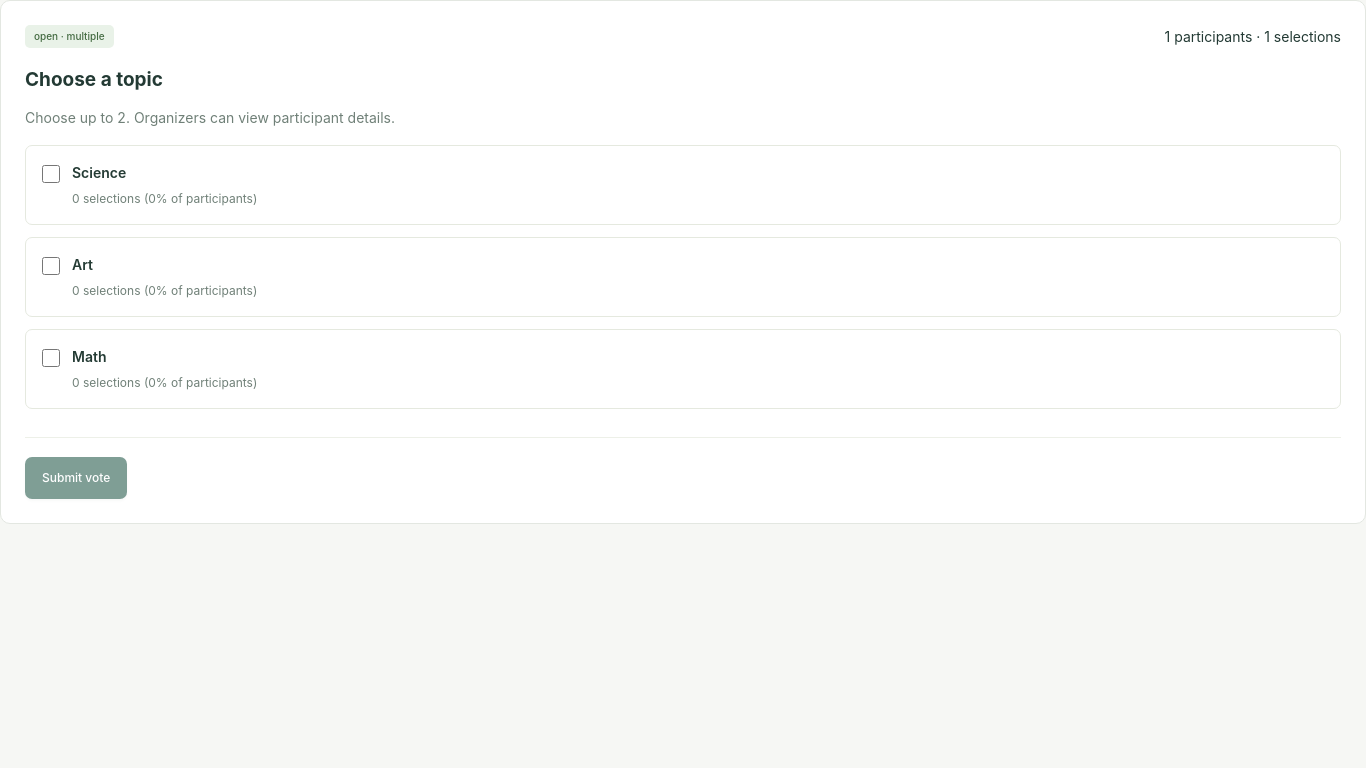
Scenario: Polling interface › enforces the multiple-choice maximum in the interface
Click the checkbox labelled "Science 0 selections (0% of participants)" at (51, 174), box [42,165,60,183]
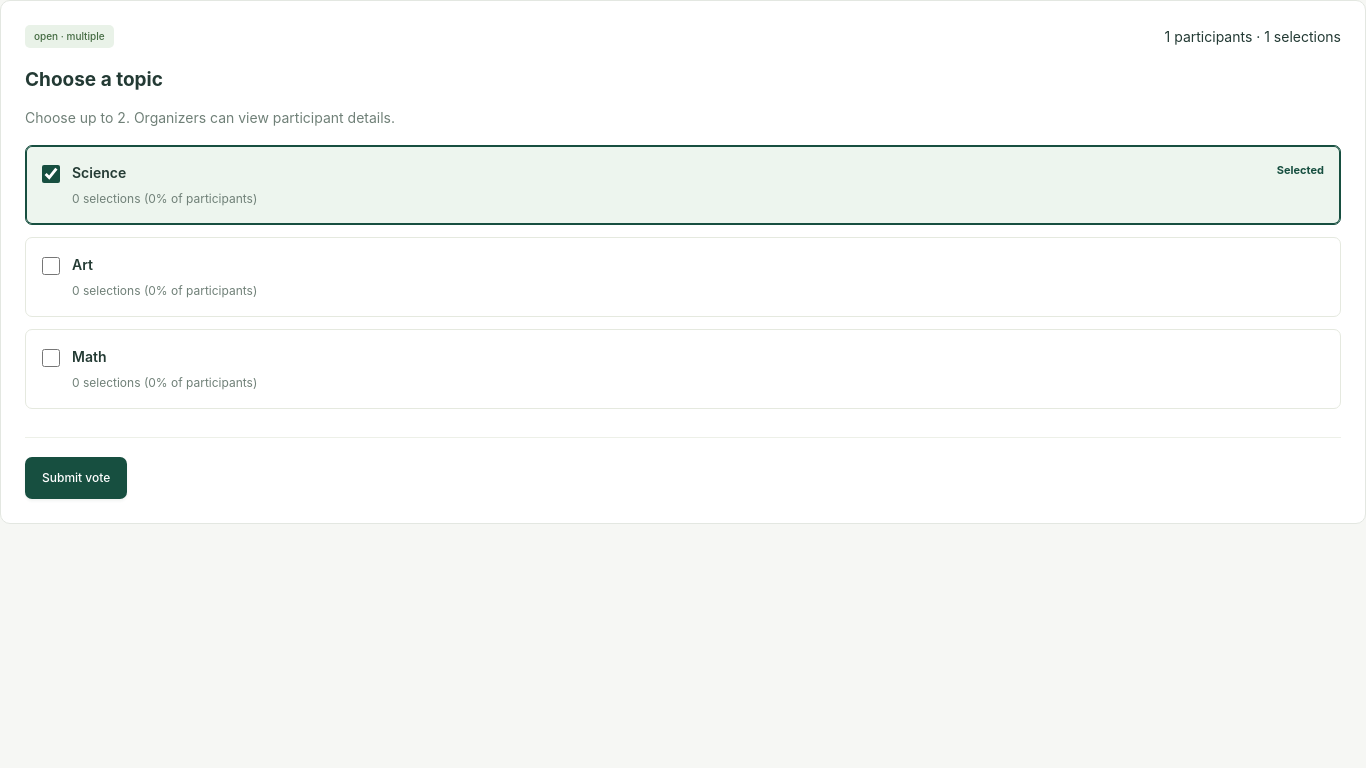
Click the checkbox labelled "Art 0 selections (0% of participants)" at (51, 266), box [42,257,60,275]
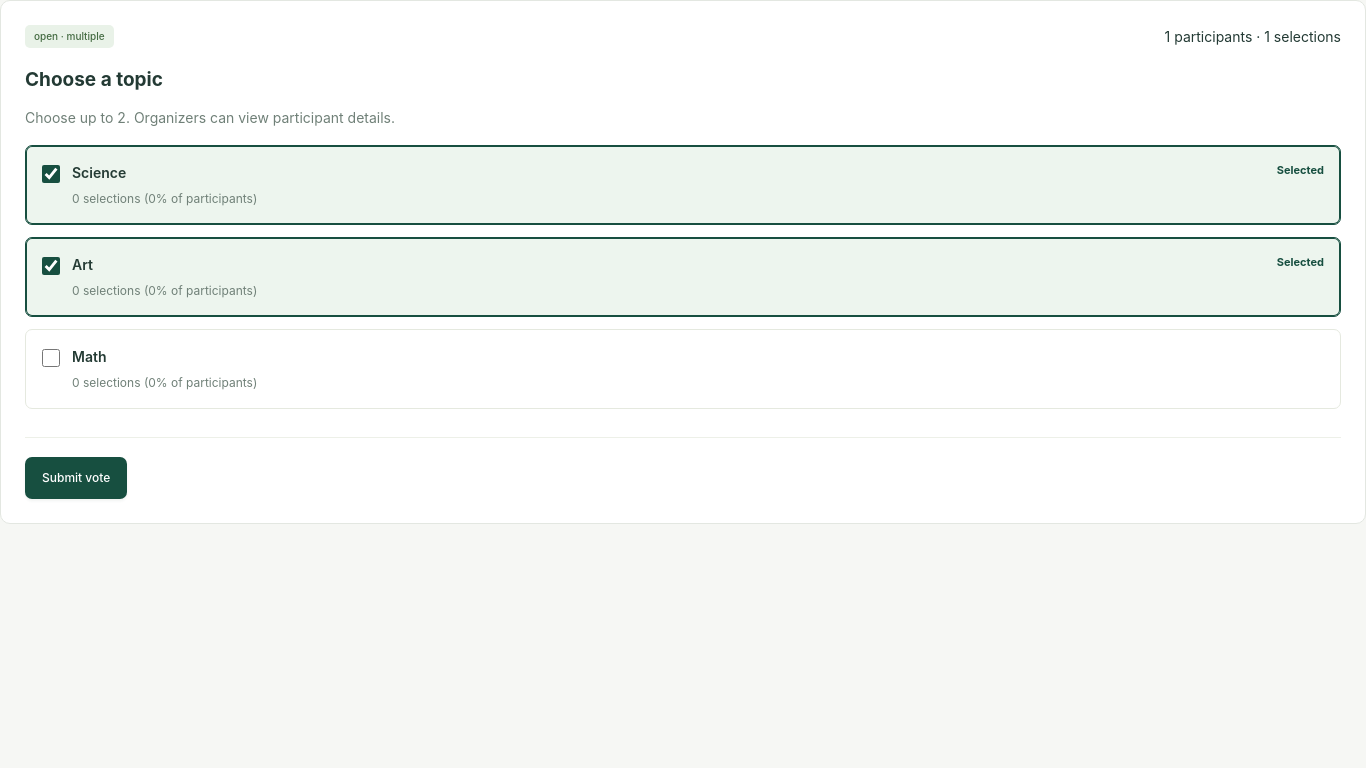
Expected: the button "Submit vote" is enabled, [25,458,127,500]
Click the checkbox labelled "Math 0 selections (0% of participants)" at (51, 358), box [42,349,60,367]
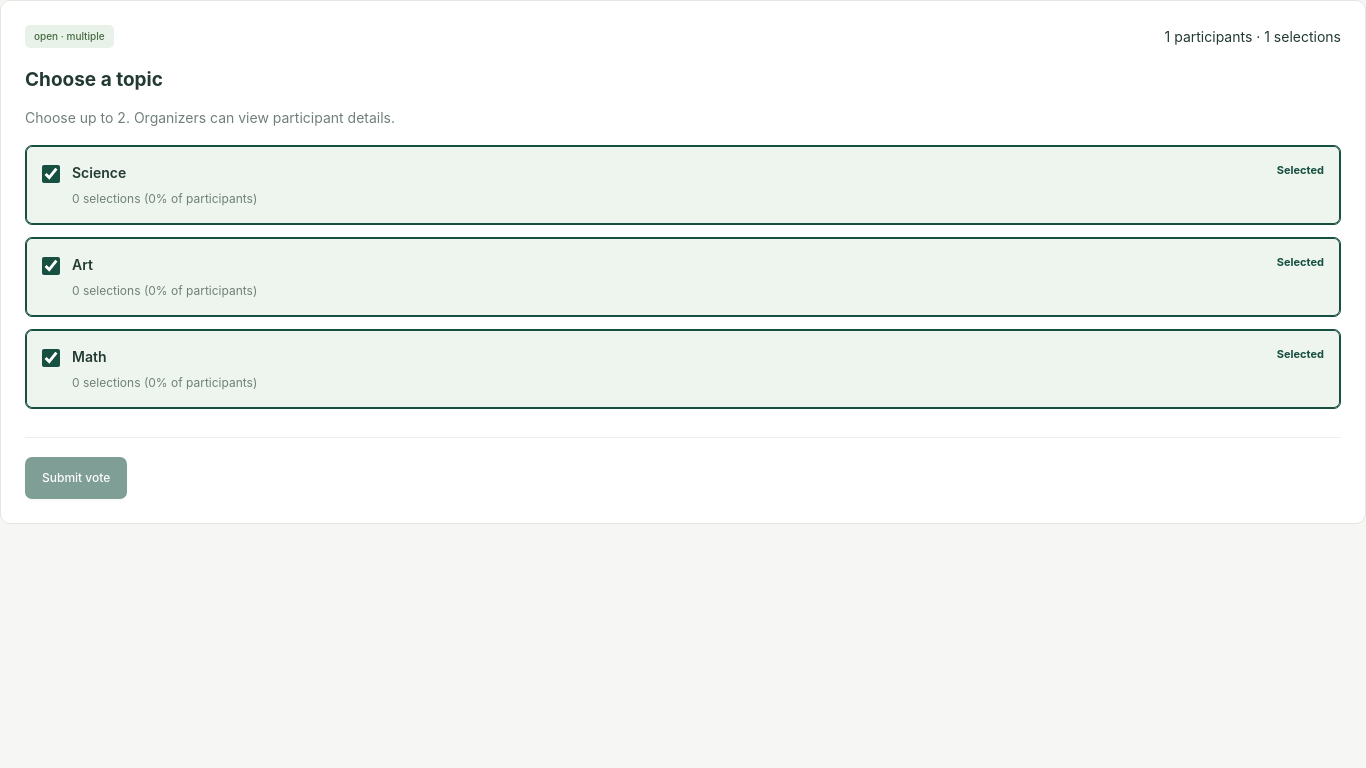
Expected: the button "Submit vote" is disabled, [25,458,127,500]
